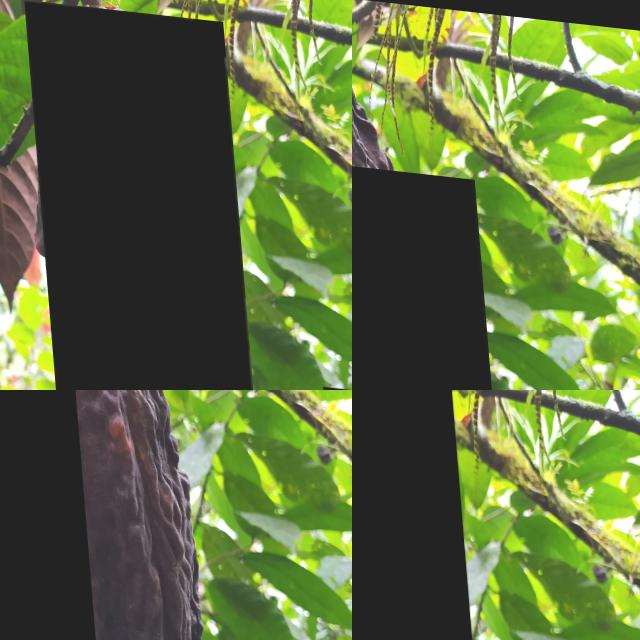Fitoftora: (352, 153, 501, 390), (352, 390, 489, 640), (0, 390, 102, 640)
Sana: (23, 0, 255, 390)
